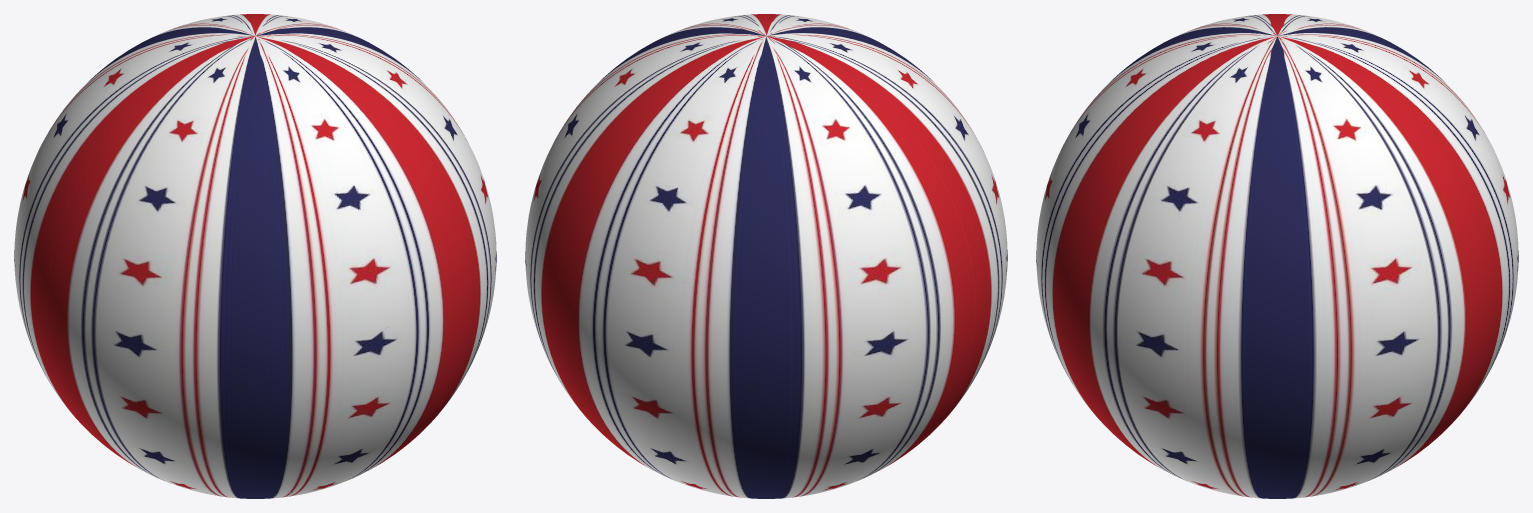
The model's file is CarnivalBall.fbx.
3 renders of one model, left to right at view 1: azimuth 30°, elevation 25°; view 2: azimuth 150°, elevation 25°; view 3: azimuth 270°, elevation 25°, orthographic.
Visible parts, largest first — view 1: Sphere; view 2: Sphere; view 3: Sphere.
Part boxes in pixels (x1,y1,x2,y2): Sphere: (14, 14, 496, 498); Sphere: (525, 14, 1007, 498); Sphere: (1036, 14, 1518, 498).
Bounding box in the file's own units: 1.97 × 1.99 × 1.97.
1 material, 1 textured.
